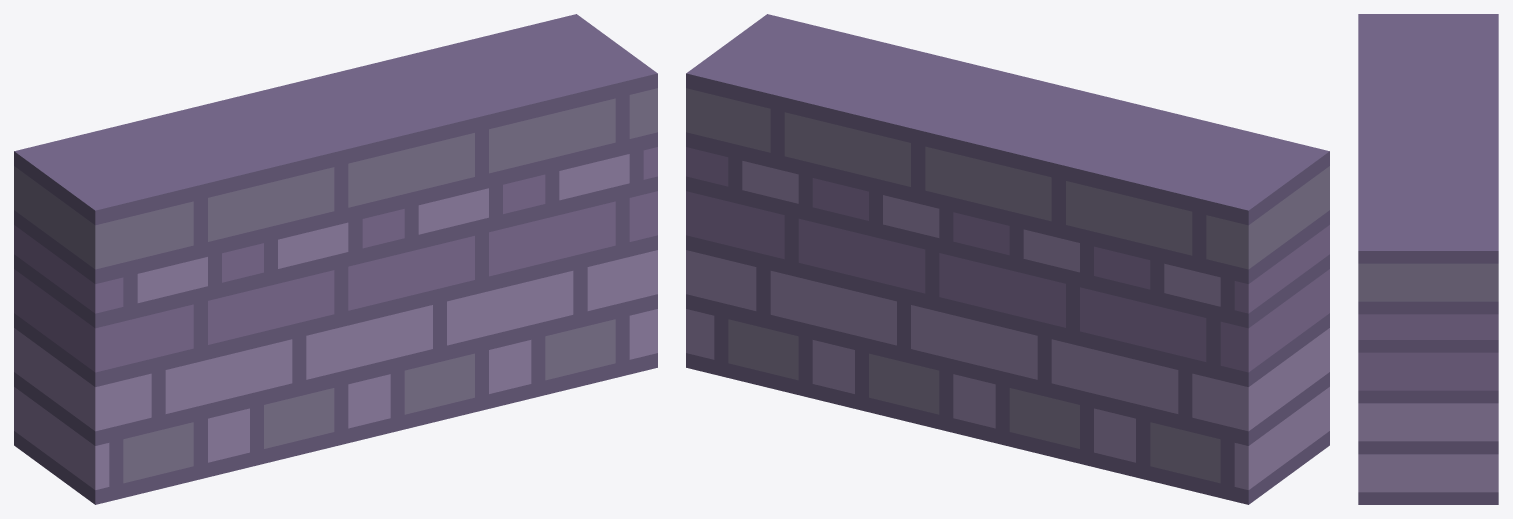
Rendered from wall_Quadruple.obj.
The picture shows the model from 3 angles, left to right: view 1: azimuth 30°, elevation 25°; view 2: azimuth 150°, elevation 25°; view 3: azimuth 270°, elevation 25°; orthographic projection. The views are drawn at different scales.
Visible parts, largest first — view 1: wall_Quadruple; view 2: wall_Quadruple; view 3: wall_Quadruple.
Boxes of the visible parts, bbox=[...] form: wall_Quadruple: bbox=[14, 14, 657, 504]; wall_Quadruple: bbox=[686, 14, 1329, 504]; wall_Quadruple: bbox=[1358, 14, 1498, 504].
Size of the model in its own units: 40 by 20 by 10.
1 material, 1 textured.
